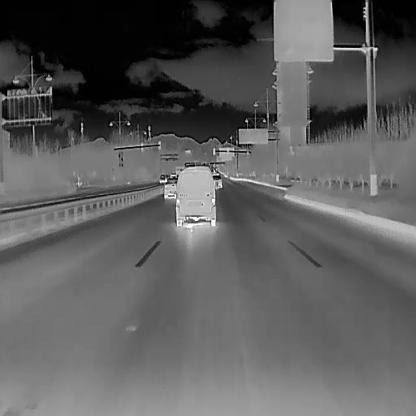car: (174, 165, 216, 226), (163, 180, 176, 199), (211, 173, 222, 187), (158, 172, 166, 183)
